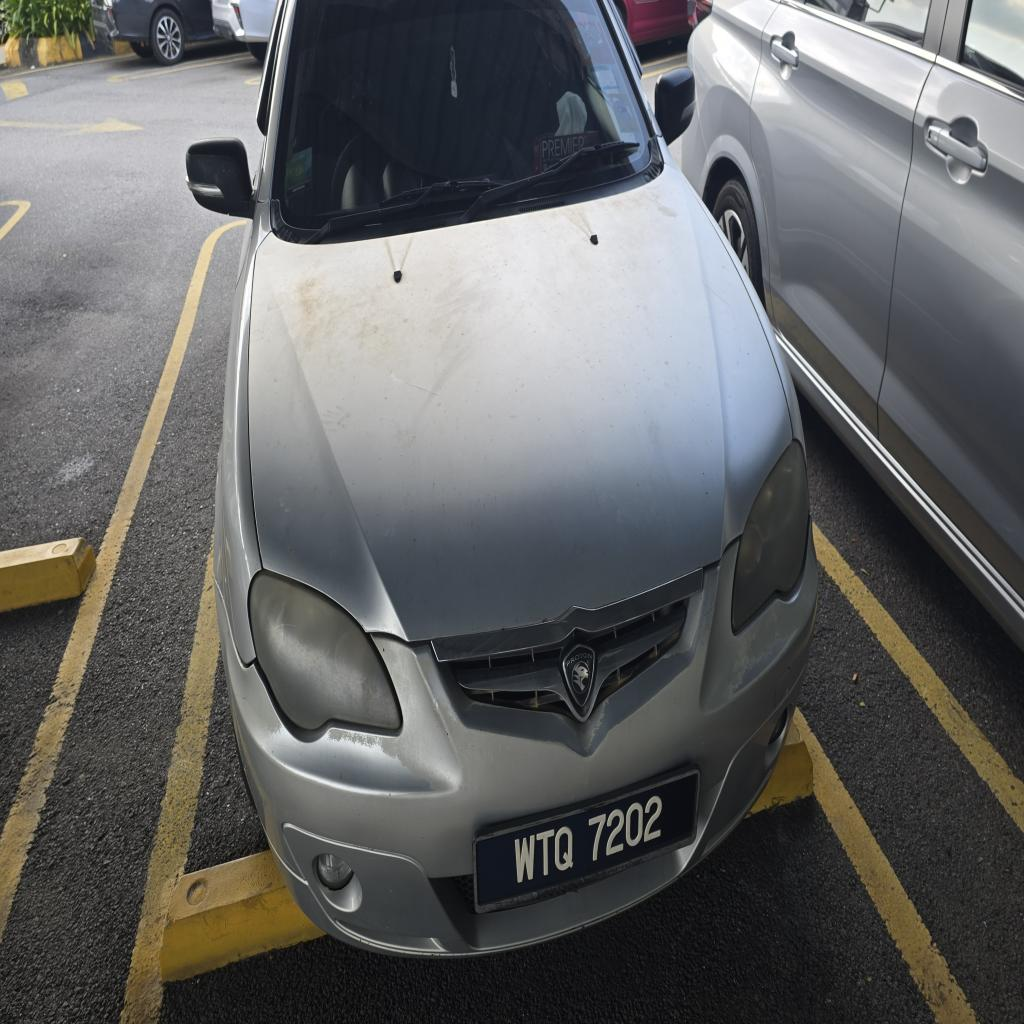car: (187, 0, 817, 955)
car plate: (474, 768, 698, 911)
